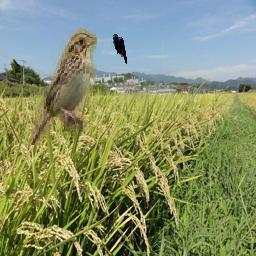Crow: (113, 34, 128, 65)
Sparrow: (27, 29, 98, 146)
